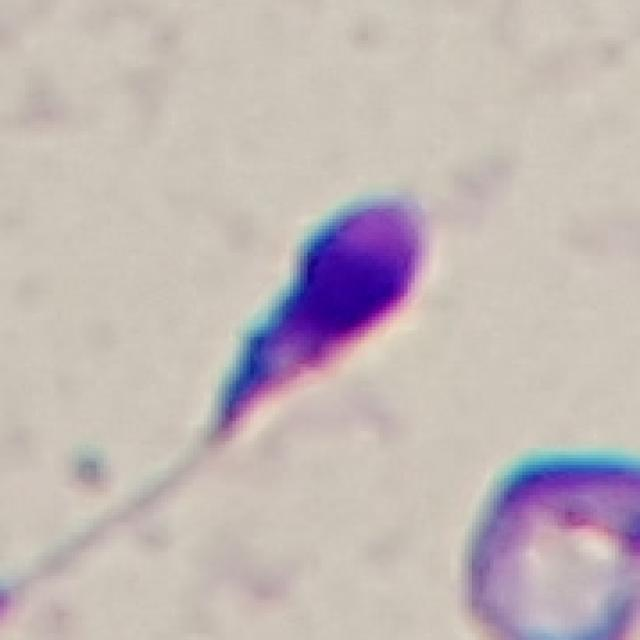abnormal sperm: (96, 192, 460, 546)
